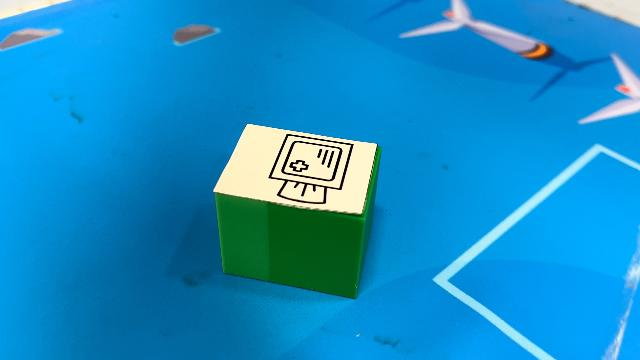napkin: (211, 121, 383, 300)
